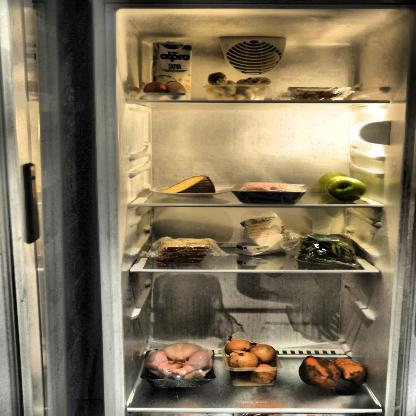apple: (316, 170, 367, 203)
cheese: (163, 175, 216, 197)
chicken: (144, 342, 216, 383)
eggs: (143, 80, 190, 99)
green_beans: (290, 231, 364, 268)
ground_beef: (234, 181, 304, 202)
milk: (150, 40, 191, 96)
mushrooms: (203, 73, 270, 100)
onion: (223, 336, 280, 385)
shrimp: (287, 90, 348, 102)
sweet_potato: (298, 354, 370, 391)
